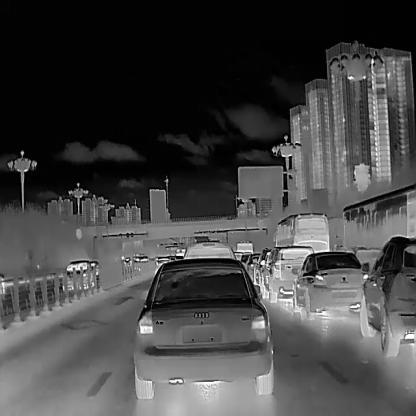bus: (336, 181, 415, 266), (272, 212, 330, 254), (235, 238, 254, 255)
car: (132, 256, 277, 400), (358, 231, 416, 356), (290, 250, 364, 318), (259, 245, 318, 302), (60, 258, 96, 290), (183, 239, 235, 258), (154, 255, 174, 276)
